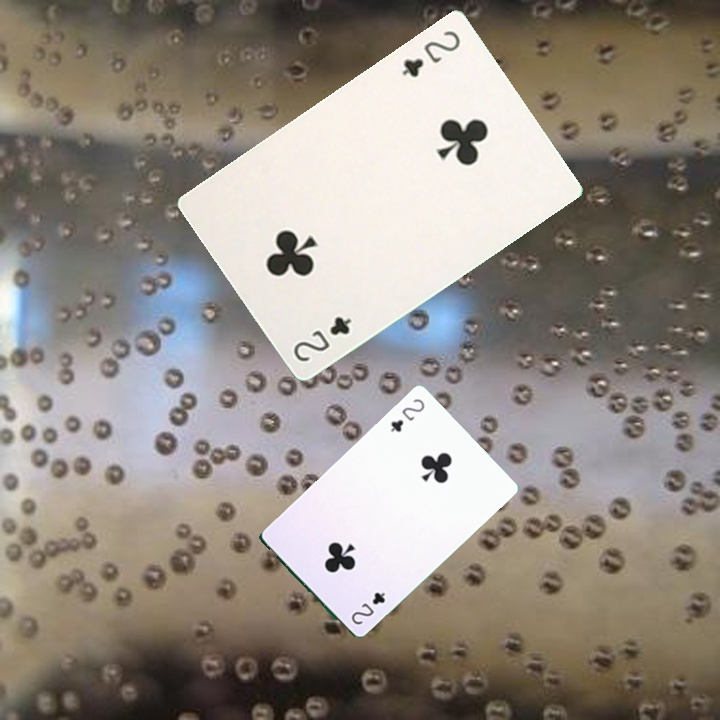2c: (397, 26, 464, 80), (289, 312, 354, 365), (386, 394, 427, 435), (347, 588, 388, 627)
